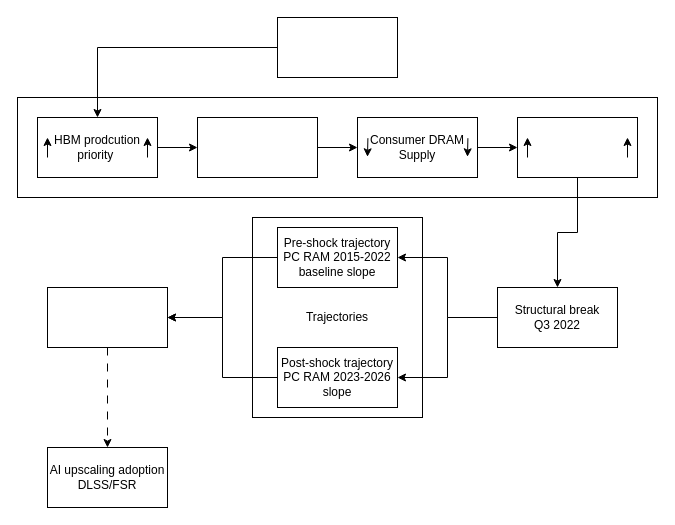
This 675x525 diagram has some shape labels left out. Each missing label, with the centre of its shape:
"AI Infrastructure demand (NVIDIA data center revenue)" belongs at point 337,47.
"Change in slope and level. Did RAM growth rate change?" belongs at point 107,317.
"Consumer DRAM Prices" belongs at point 577,147.
"Shared fab capacity constrained" belongs at point 257,147.
